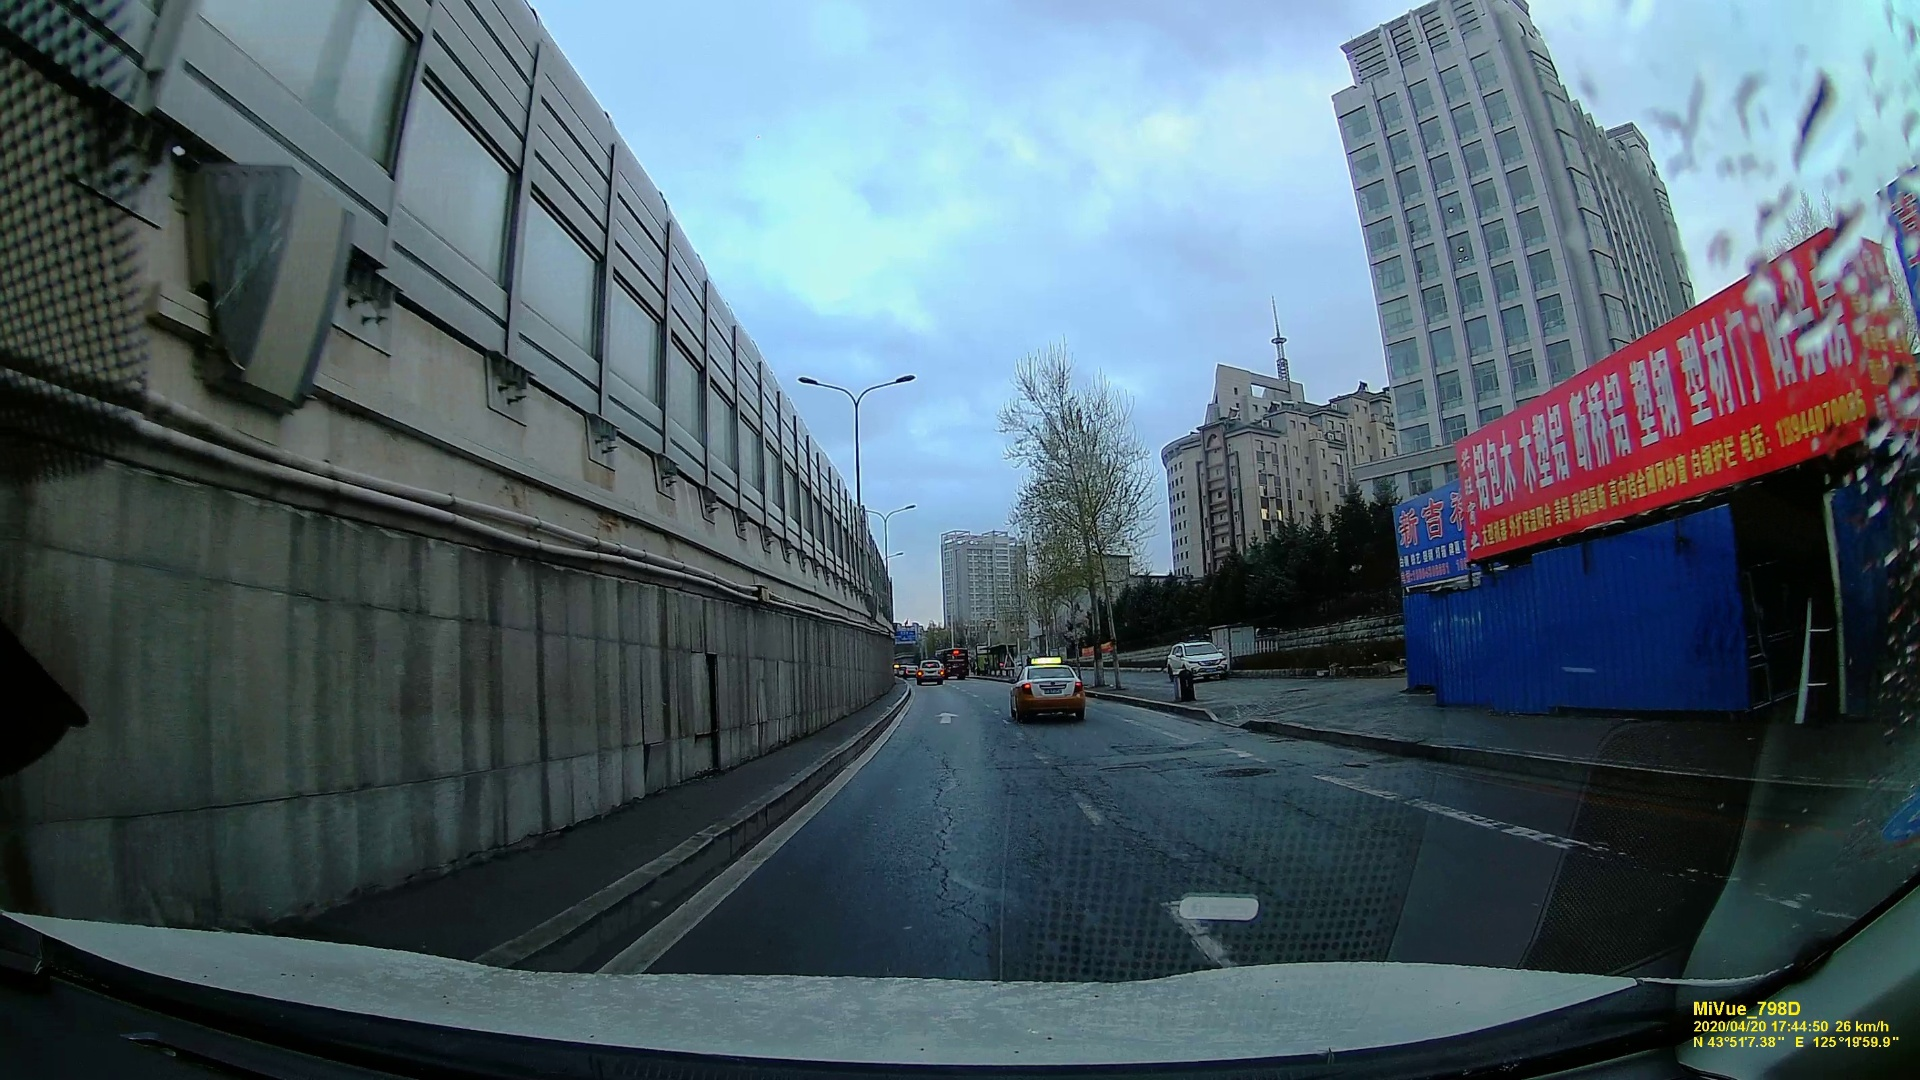bus: (939, 647, 971, 680)
vehicle: (1007, 662, 1087, 724), (1164, 638, 1236, 680), (916, 659, 943, 684)
